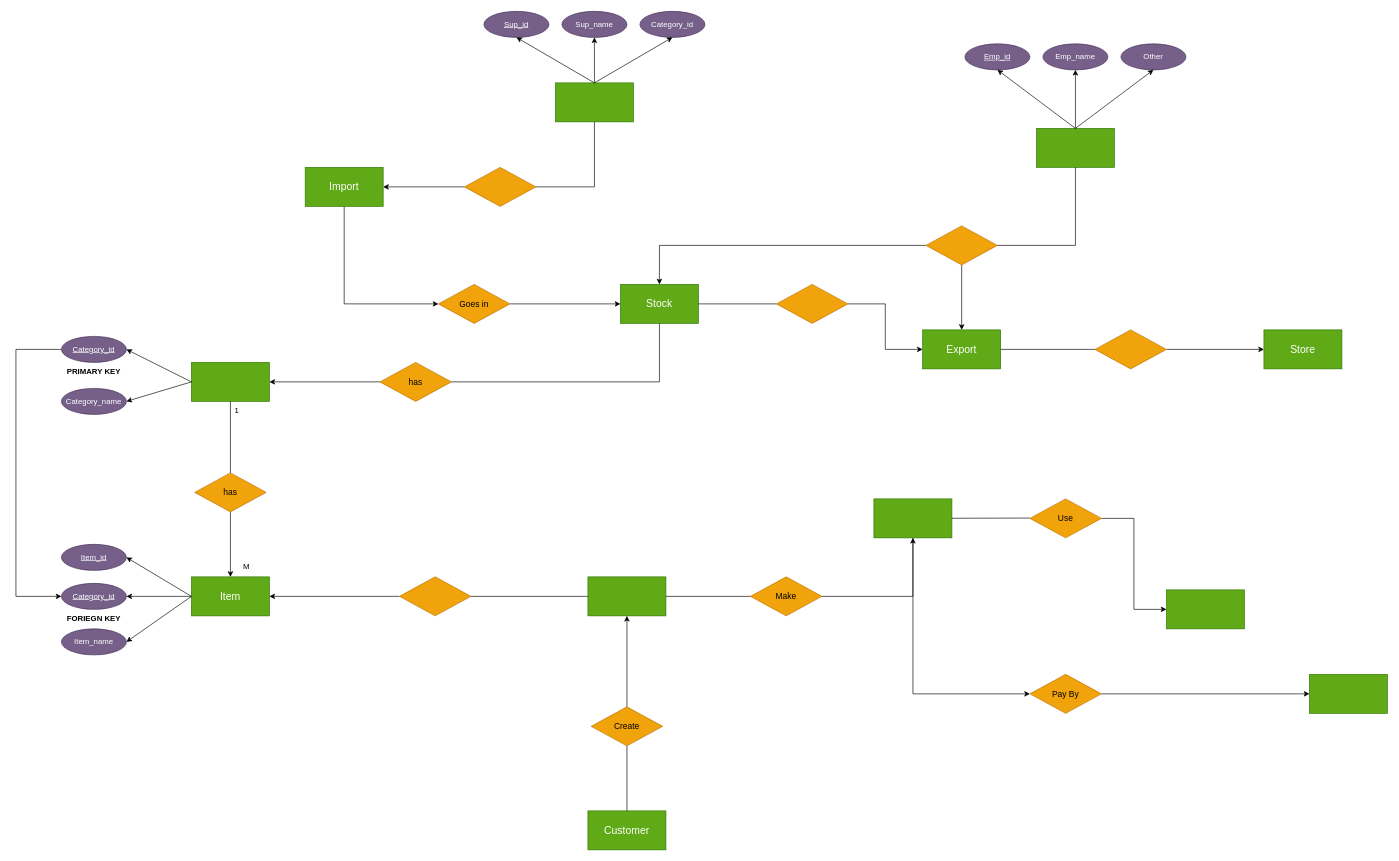
Image size: 1399x861. Some labels were removed from this diagram. Each missing label, with the centre of its shape:
Card: (x=1348, y=693)
Category: (x=230, y=381)
Contain: (x=435, y=596)
Employee: (x=1075, y=147)
Goes out: (x=812, y=303)
Manage: (x=961, y=245)
Order: (x=626, y=596)
Promotion: (x=1205, y=609)
Supplier: (x=594, y=102)
Supply: (x=500, y=186)
To: (x=1130, y=349)
Transaction: (x=912, y=518)
